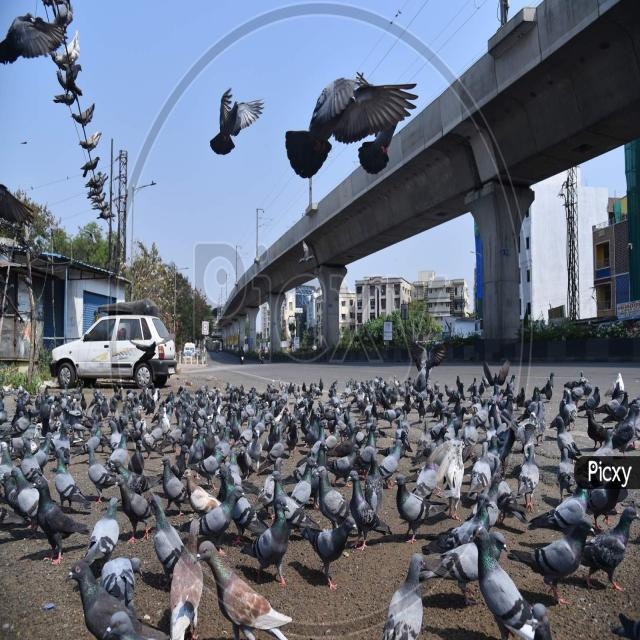bird: (194, 540, 293, 640), (63, 556, 152, 640), (516, 514, 596, 596), (302, 516, 368, 594), (32, 473, 84, 561), (248, 500, 300, 582), (392, 475, 452, 545), (591, 506, 638, 591), (346, 473, 384, 561), (113, 473, 153, 542), (158, 455, 189, 524), (85, 444, 115, 506), (49, 66, 88, 108), (299, 418, 331, 469), (25, 429, 60, 472), (381, 425, 408, 480), (140, 416, 162, 465), (72, 100, 100, 137), (76, 133, 103, 162), (80, 153, 104, 180), (90, 188, 114, 208)
